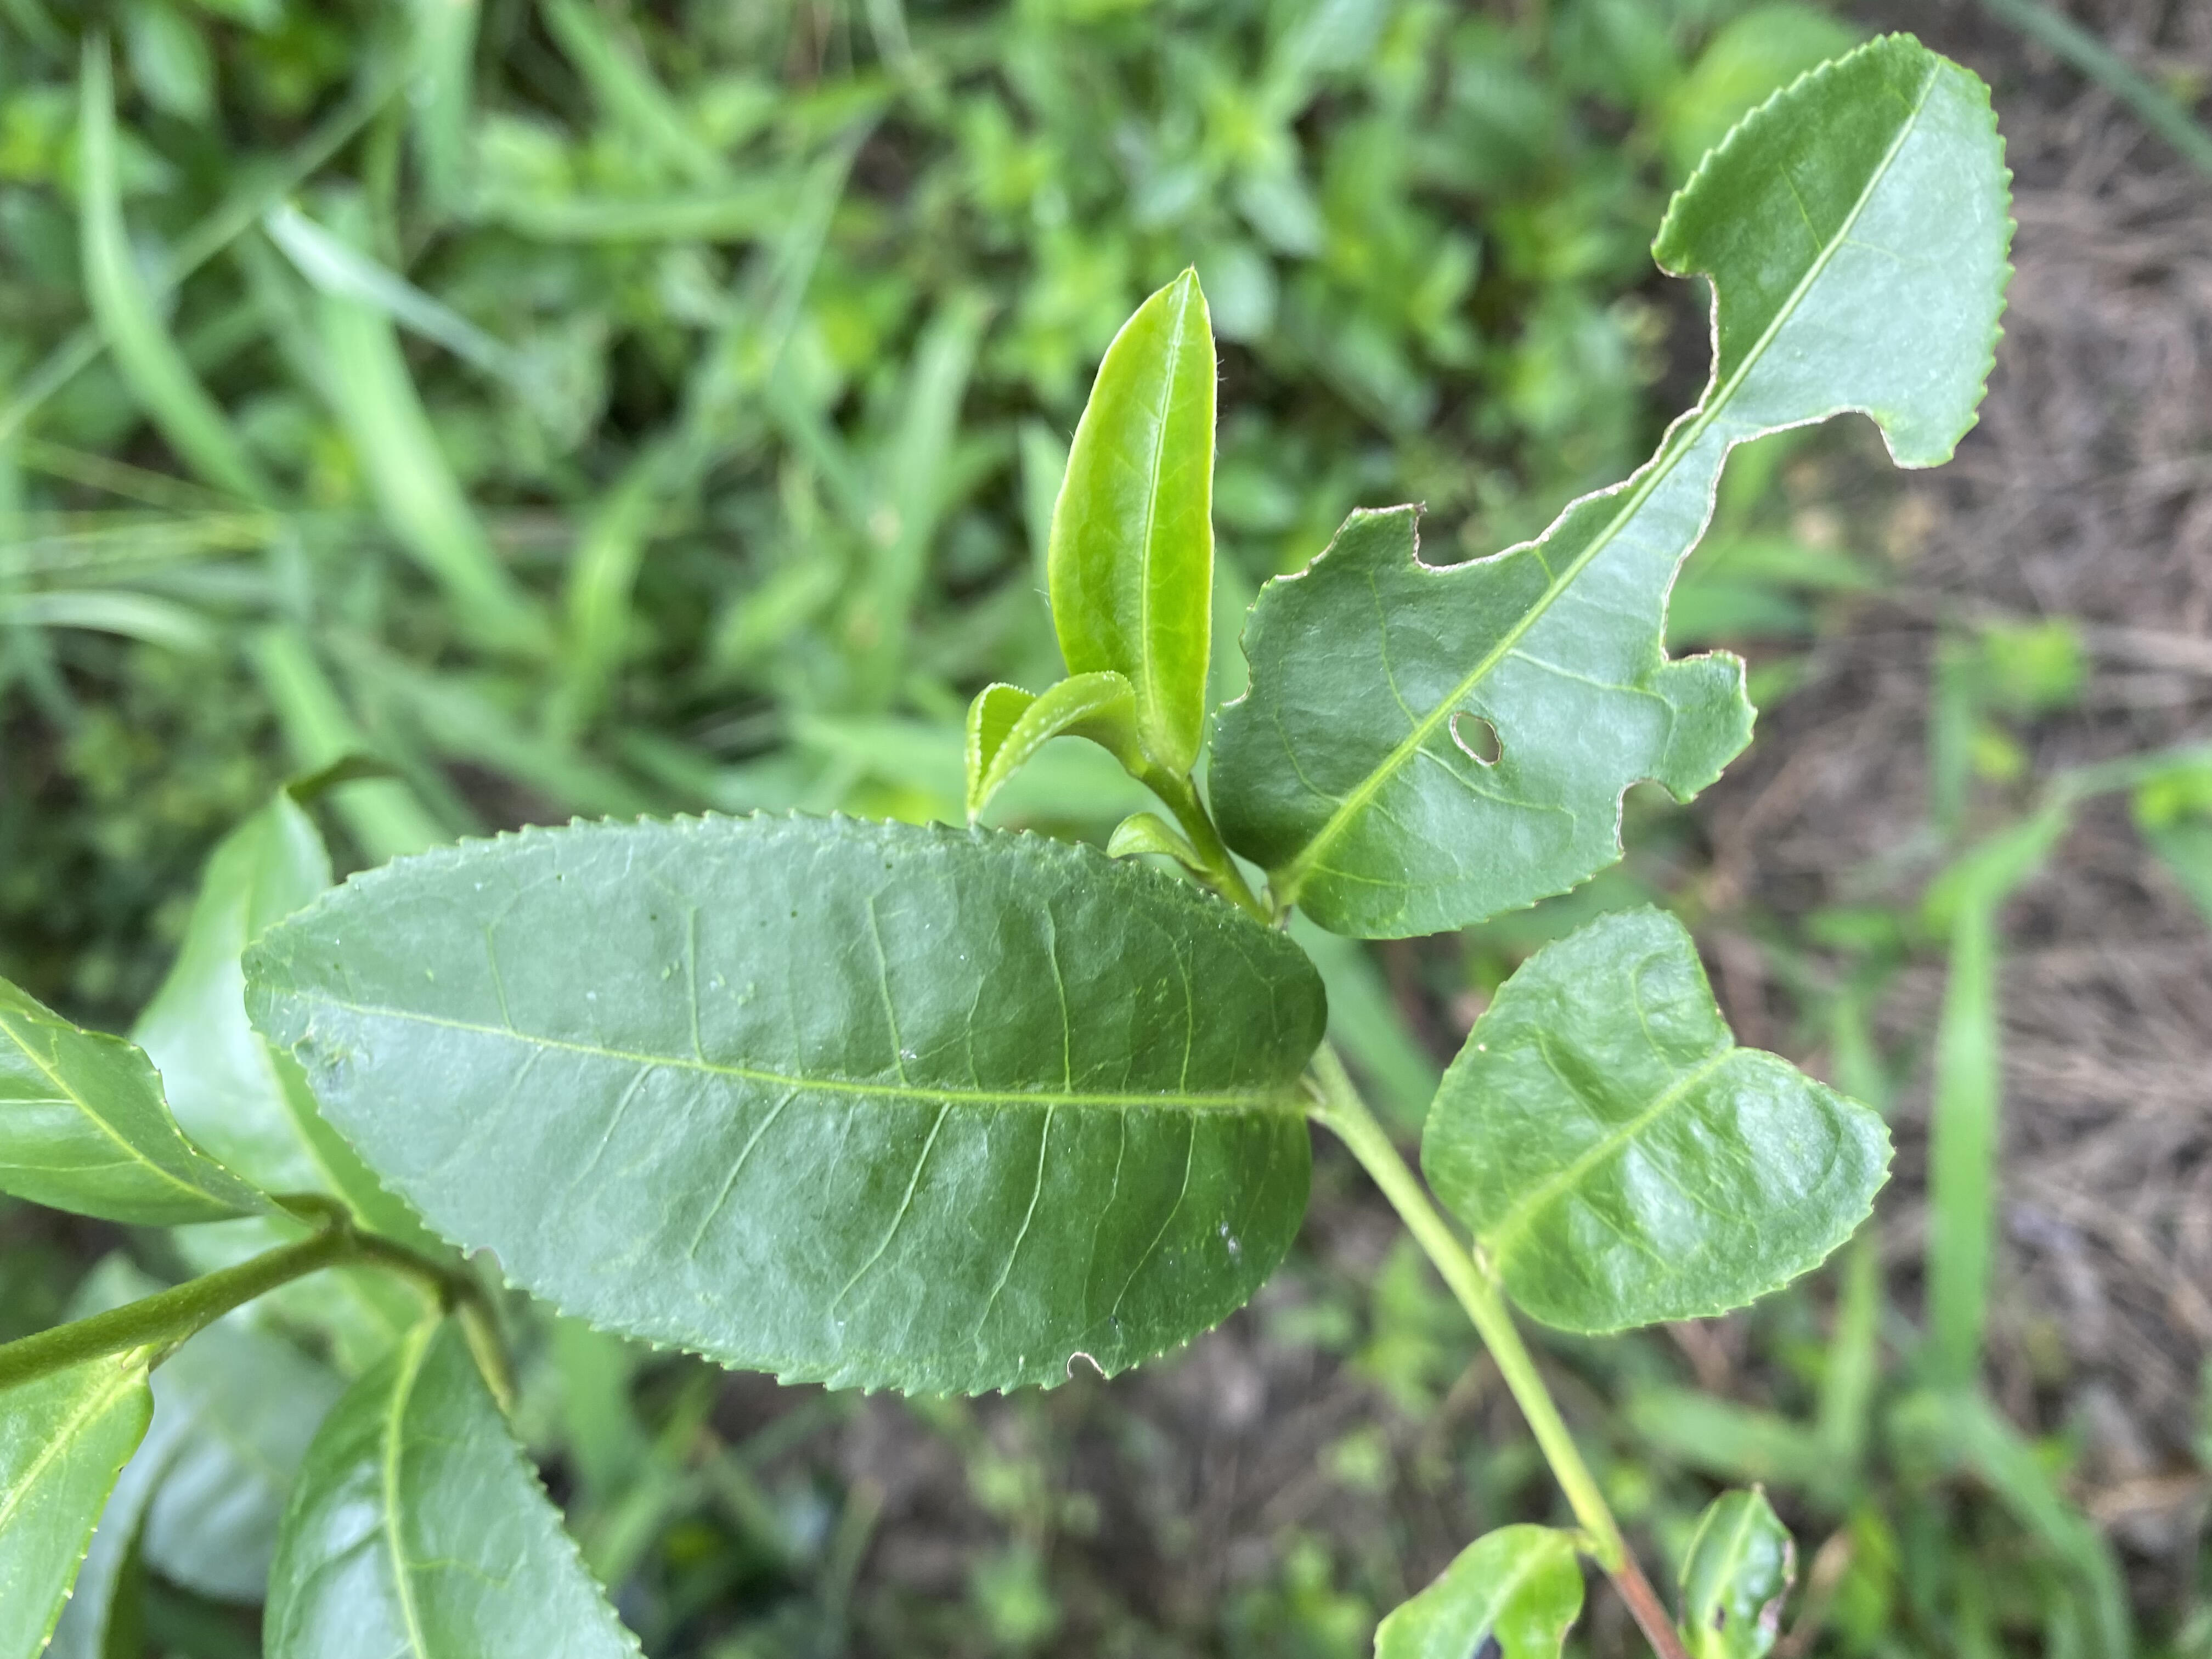chihuo_high: (1207, 28, 2019, 941), (1416, 899, 1898, 1337)
chihuo_low: (242, 807, 1329, 1399)
healthy: (1043, 265, 1223, 775)
